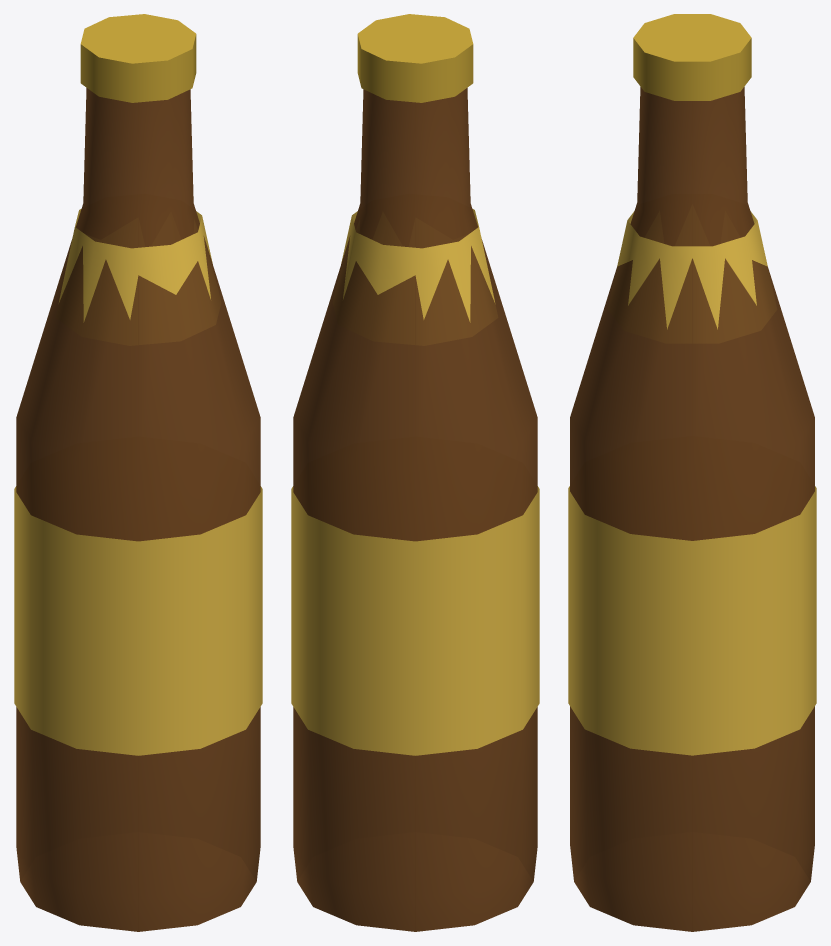
Rendered from beer_bottle.glb.
3 views of the same model, side by side, from view 1: azimuth 30°, elevation 25°; view 2: azimuth 150°, elevation 25°; view 3: azimuth 270°, elevation 25° (orthographic).
Visible parts, largest first — view 1: beer_bottle; view 2: beer_bottle; view 3: beer_bottle.
Boxes of the visible parts, x1,y1,x2,y2 form: beer_bottle: (14,14,262,931); beer_bottle: (291,14,539,931); beer_bottle: (568,14,816,931).
Size of the model in its own units: 0.063 by 0.236 by 0.063.
